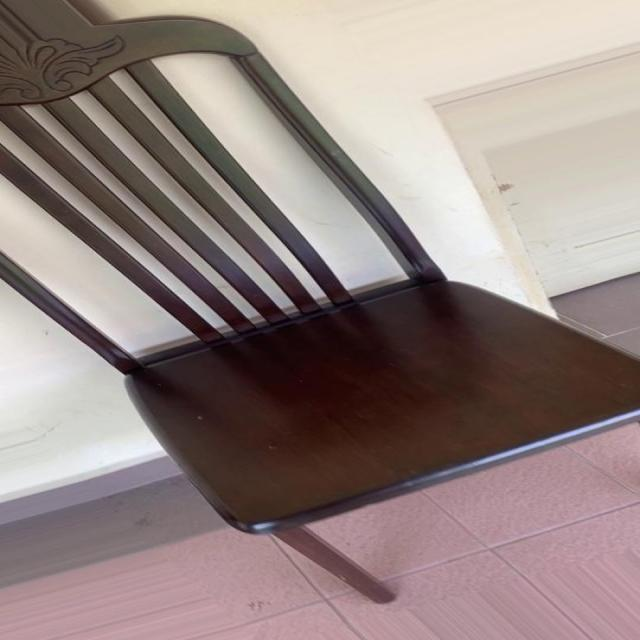chair: (7, 4, 638, 608)
